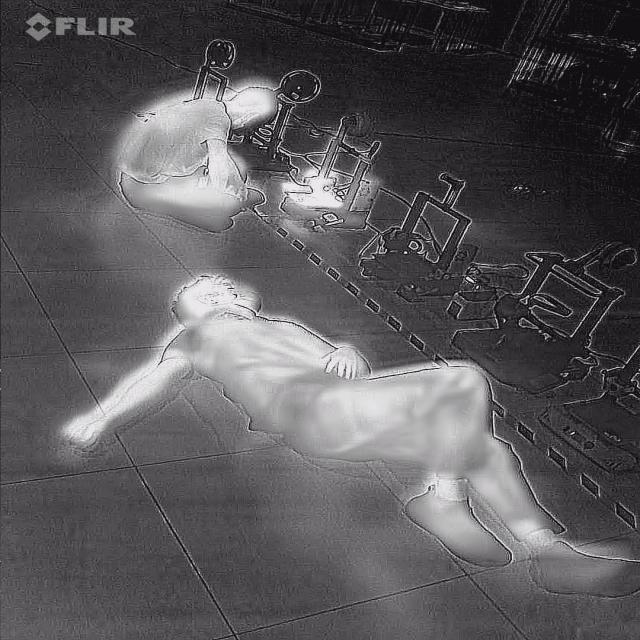Victim: (52, 268, 640, 601), (108, 76, 298, 241)
